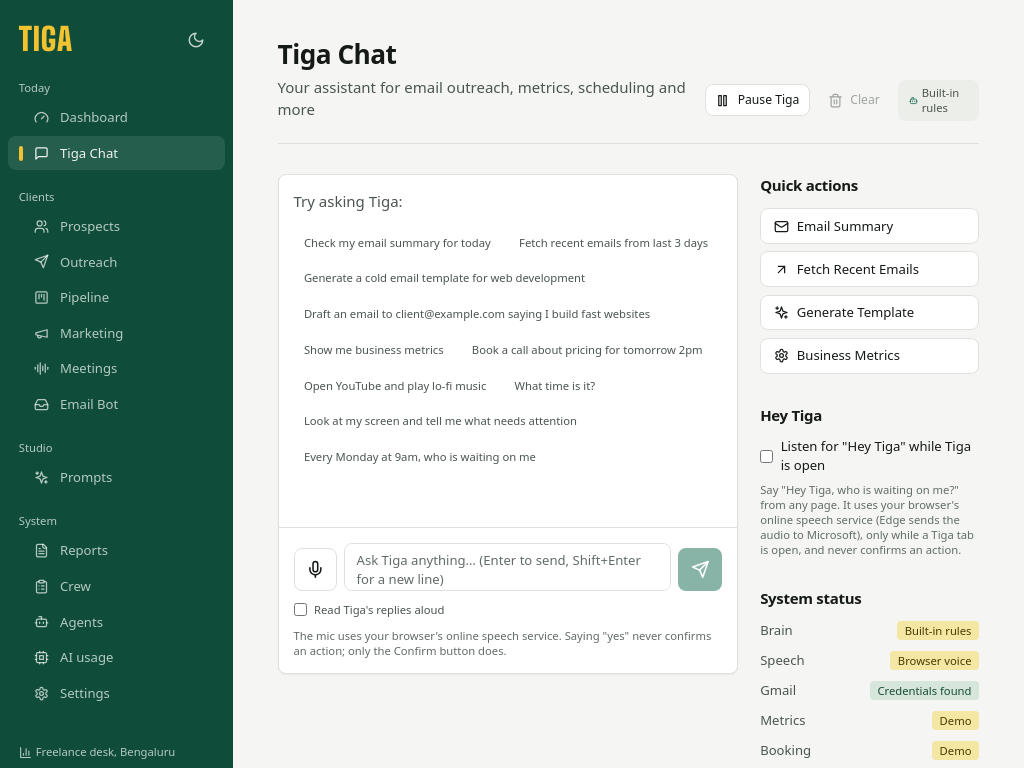
Scenario: Chat › clears the conversation
Type "hello" into the text box named "message".
click(508, 567); type("hello")  # box [344,543,671,591]
Then press Enter
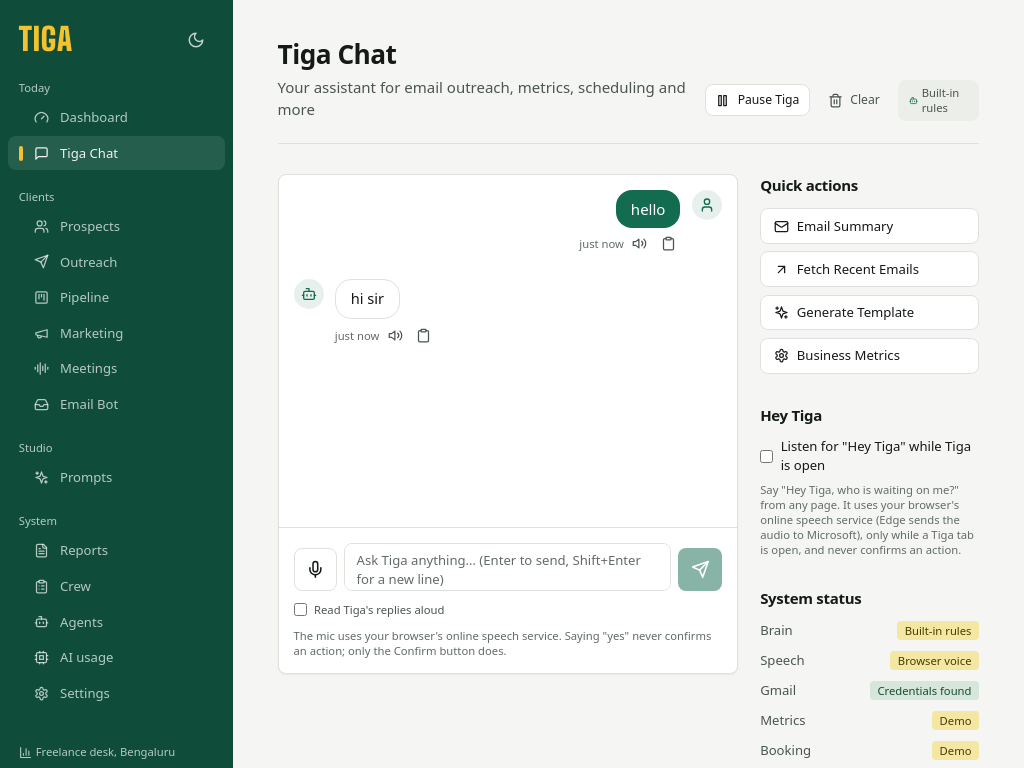
Expected: the text "hi sir" is shown, [351,287,384,311]
Click the button "Clear".
click(854, 100)  # box [817,84,890,116]
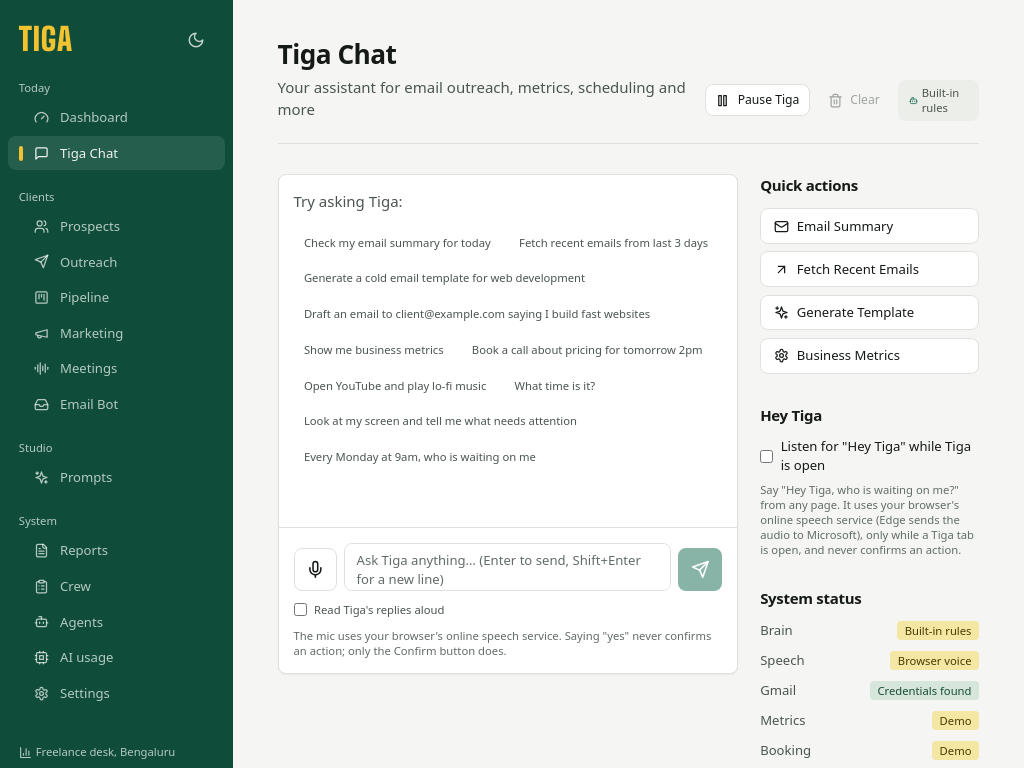
Expected: the text "hi sir" is gone
